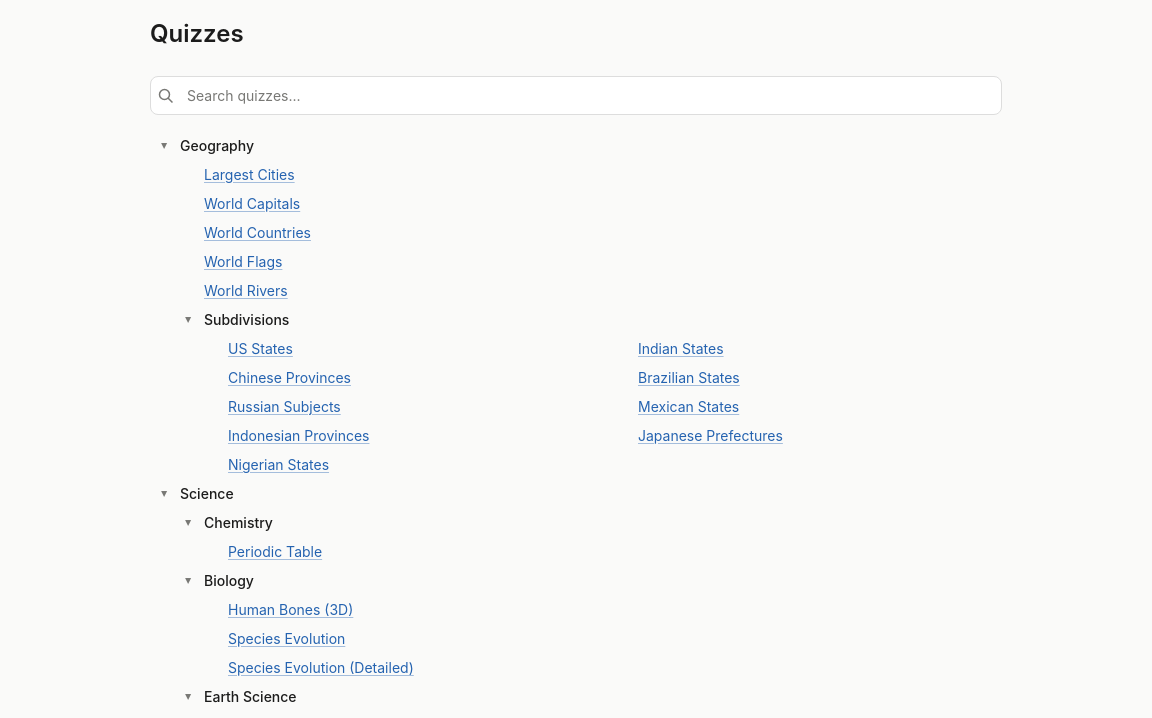
Scenario: HomePage › shows empty state when search matches nothing
Type "xyznonexistent" into the field labelled "Search quizzes". click: (576, 96)
box: [150,76,1002,115]
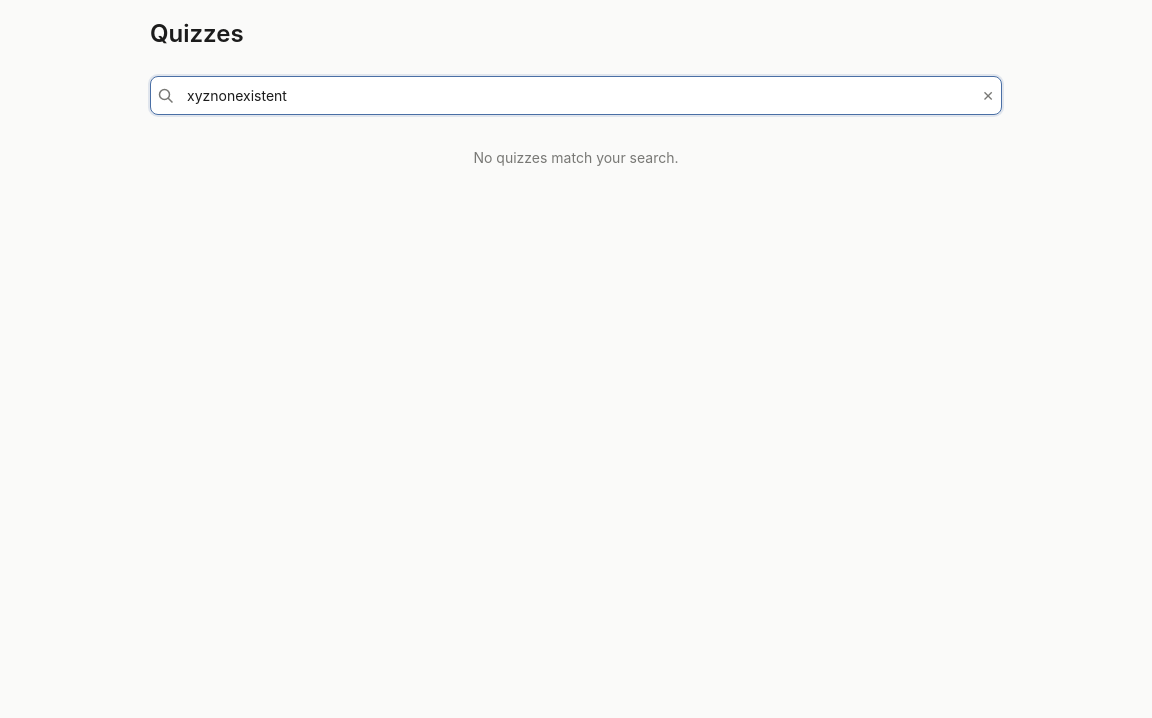
Check: the text "No quizzes match your search." is shown, box [474,149,678,166]
